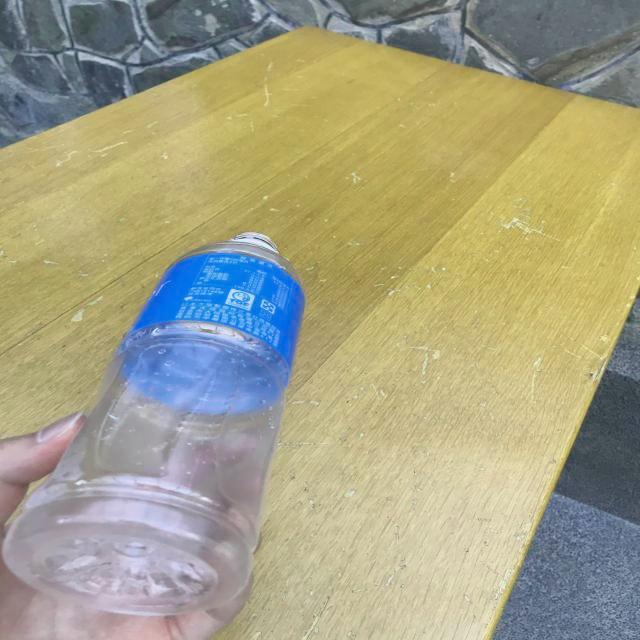bottle: (2, 232, 306, 616)
